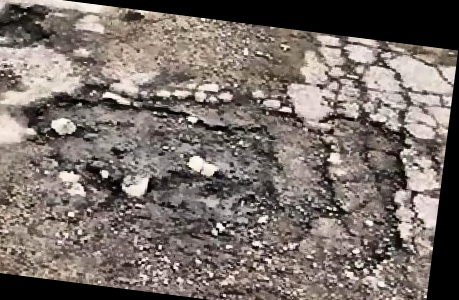pothole: (5, 67, 348, 290), (0, 0, 60, 56)
